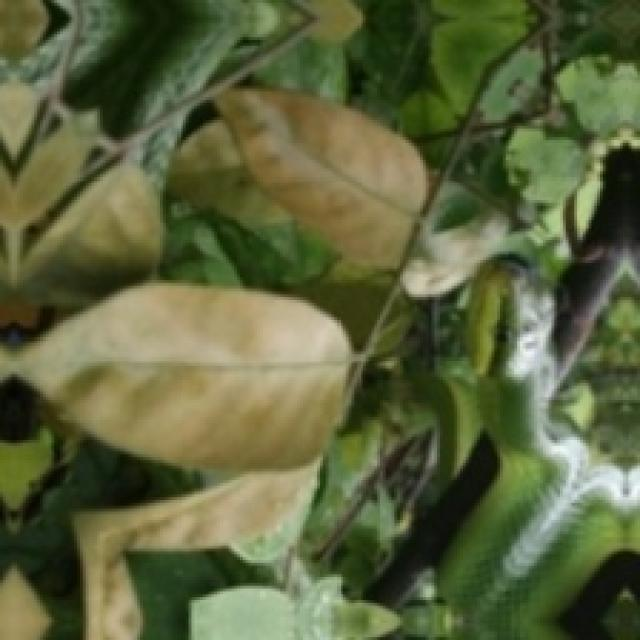red-tailed green ratsnake: (439, 261, 640, 640), (64, 1, 256, 137)
